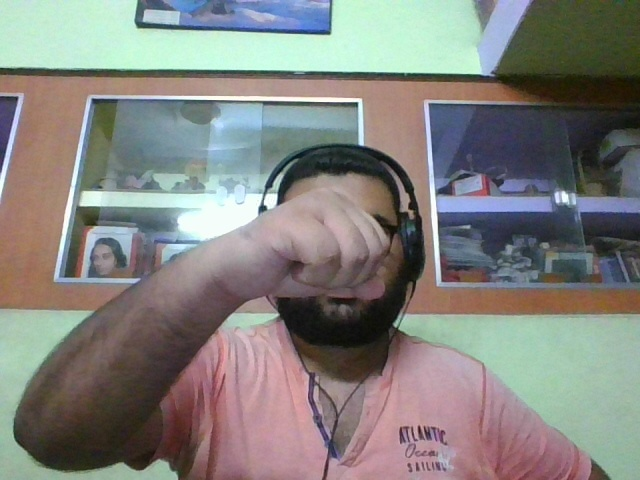yes: (224, 188, 392, 322)
